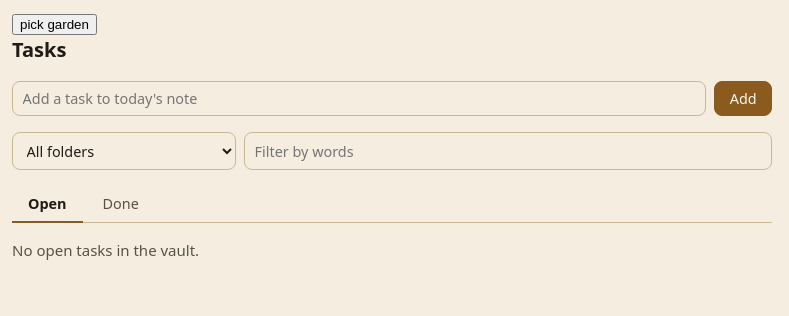
Scenario: TasksPage adding › adds to today's daily note with the Today button's heading, at once, keeping focus (AE1)
The image size is (789, 316).
Expected: the text "No open tasks in the vault." is shown, [12,240,199,260]
Type "Order timber for the shed" into the field named "New task" at (359, 99), box [12,81,706,116]
Then press Enter
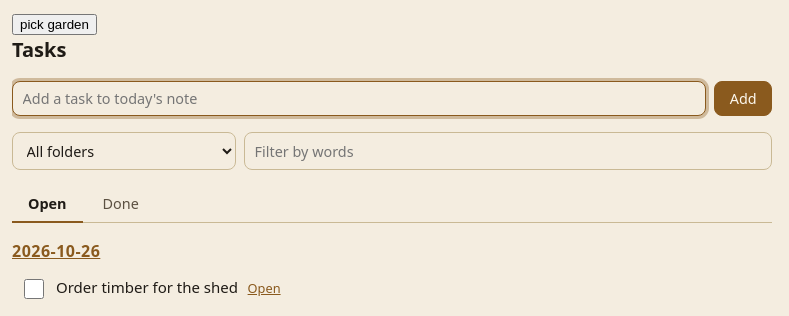
Expected: the heading "2026-10-26" is shown, [12,240,100,262]
Expected: the text "Order timber for the shed" is shown, [56,277,238,297]
